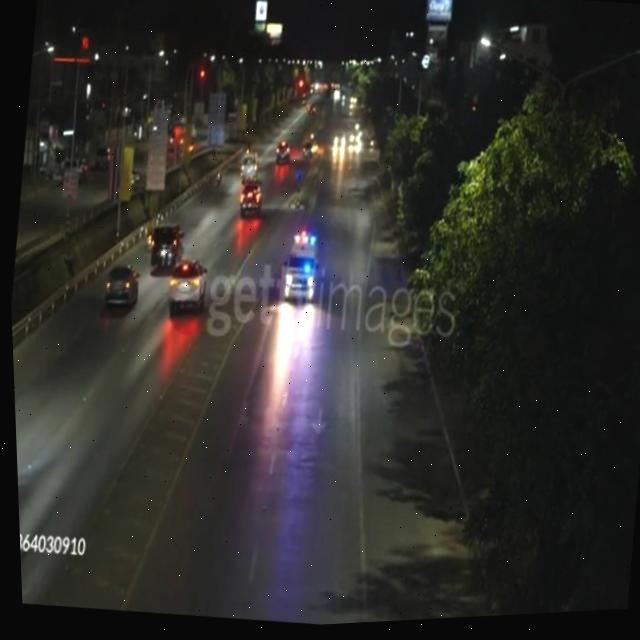emergency: (276, 230, 321, 311)
